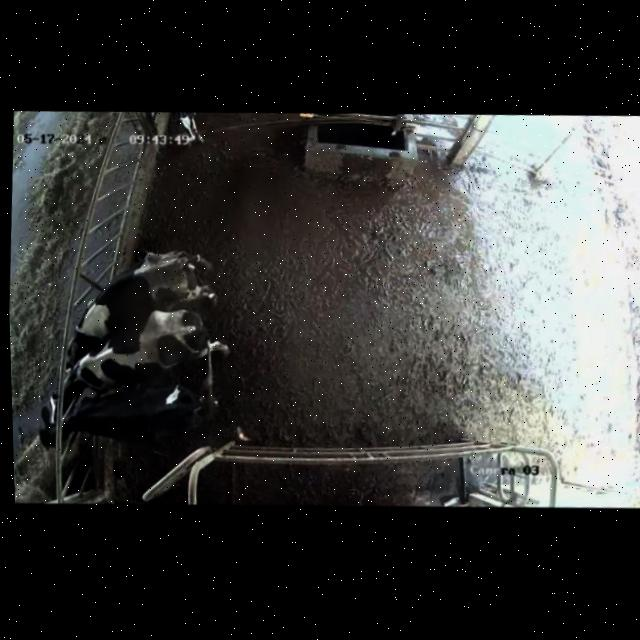eat: (22, 294, 120, 357), (27, 398, 123, 461), (24, 347, 127, 402)
